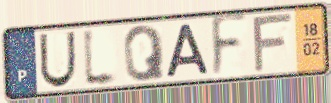A: (164, 22, 212, 79)
F: (250, 11, 295, 76), (210, 11, 250, 82)
L: (81, 25, 122, 90)
Q: (122, 23, 168, 83)
U: (37, 30, 77, 90)
